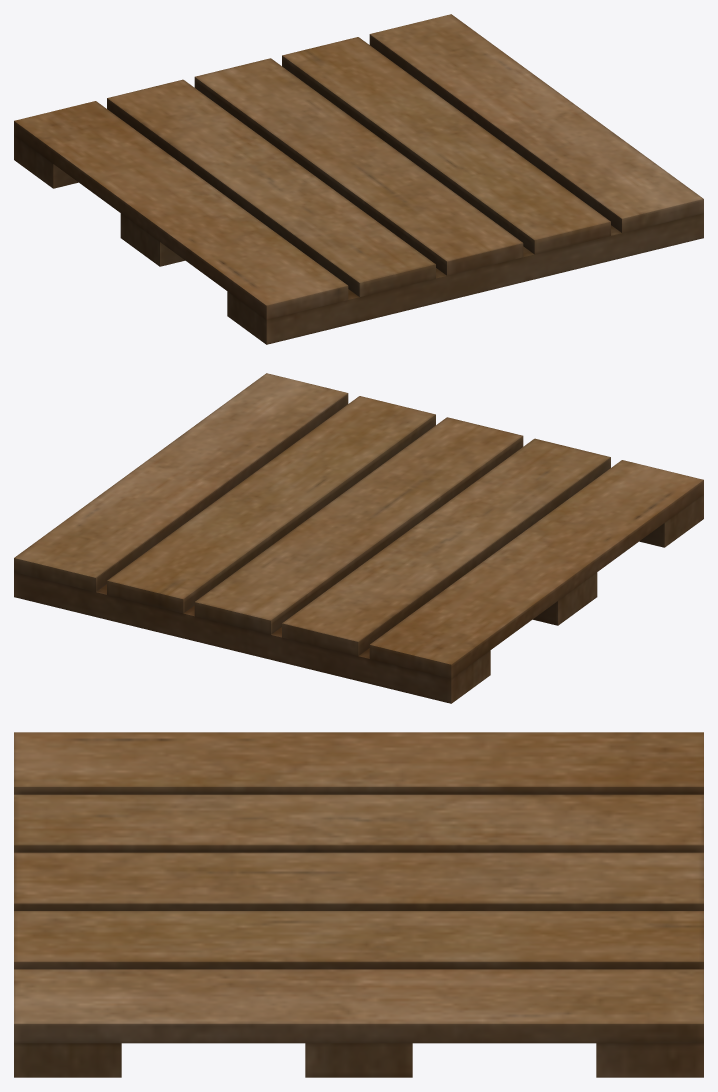
The model's file is Crates_Wooden_Base.fbx.
3 renders of one model, top to bottom at view 1: azimuth 30°, elevation 25°; view 2: azimuth 150°, elevation 25°; view 3: azimuth 270°, elevation 25°, orthographic. The views are drawn at different scales.
Visible parts, largest first — view 1: WoodenCrates-Base; view 2: WoodenCrates-Base; view 3: WoodenCrates-Base.
Part boxes in pixels (left/top/right/bottom): WoodenCrates-Base: left=14, top=14, right=703, bottom=344; WoodenCrates-Base: left=14, top=373, right=703, bottom=703; WoodenCrates-Base: left=14, top=732, right=703, bottom=1077.
Size of the model in its own units: 147 by 12.58 by 147.
